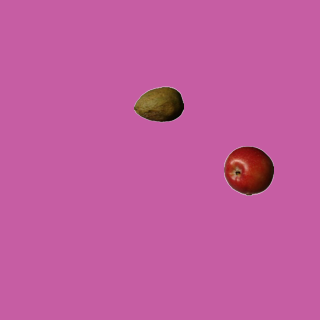Apple Braeburn: (223, 145, 273, 195)
Papaya: (133, 79, 183, 129)
